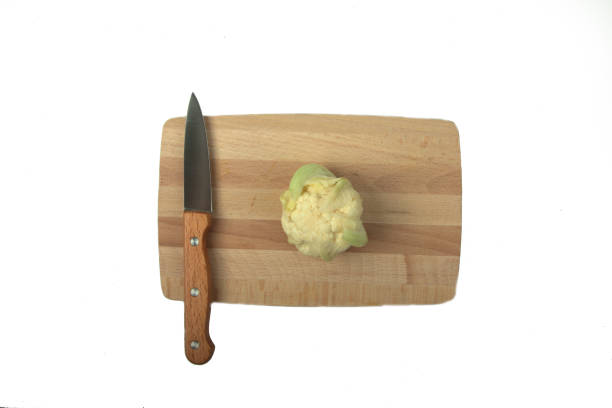knife: (180, 89, 216, 365)
